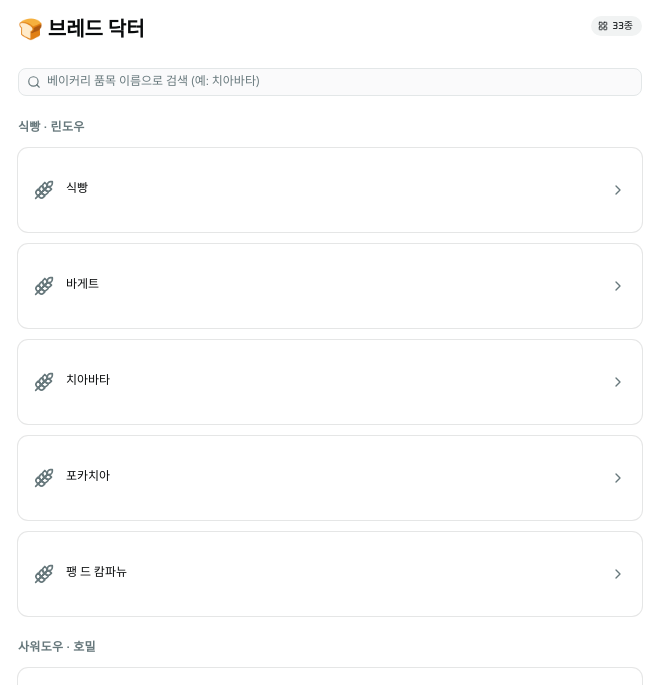
it: BreadDoctor › Scenario 3: 근접 원인(안부풂+속떡짐)은 판별 질문을 먼저 보여준다
The width and height of the screenshot is (661, 685).
What coordinates should you click on to do the following:
click the button "식빵"
I would click on:
 (44, 190)
Its box is [18, 164, 642, 216].
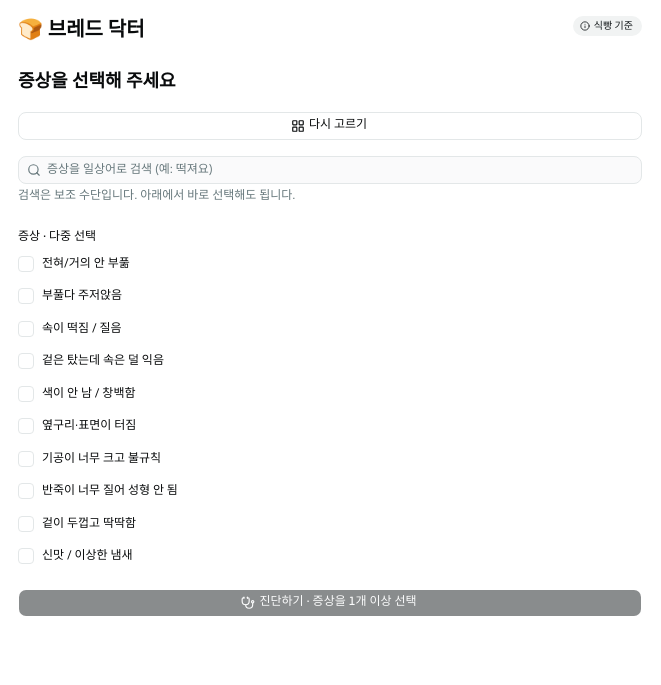
What coordinates should you click on to do the following:
click the checkbox named "전혀/거의 안 부풂" next to "전혀/거의 안 부풂"
I would click on:
 (26, 264)
Its box is [18, 256, 34, 272].
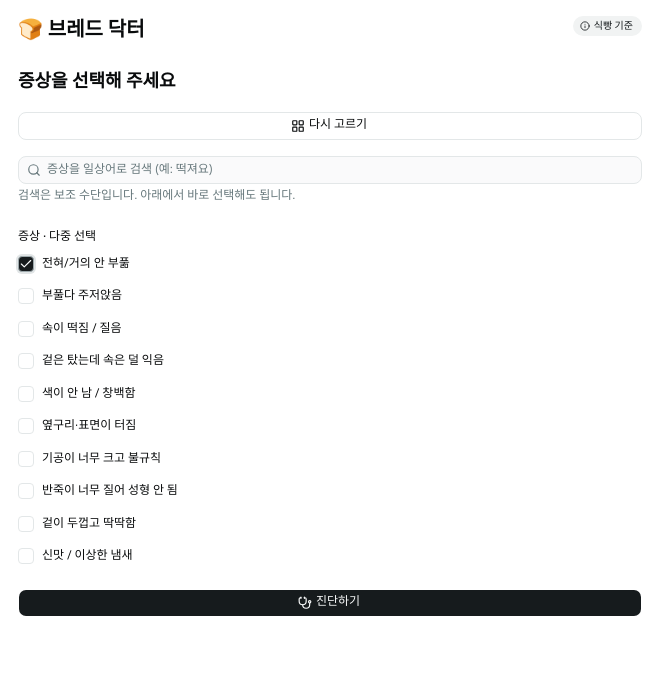
What coordinates should you click on to do the following:
click the checkbox named "속이 떡짐 / 질음" next to "속이 떡짐 / 질음"
I would click on:
 (26, 329)
Its box is [18, 321, 34, 337].
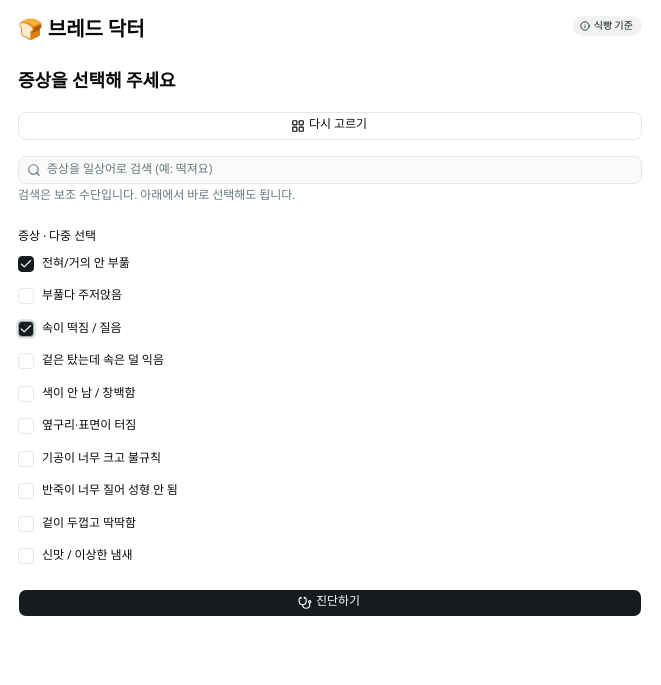
What coordinates should you click on to do the following:
click the button "진단하기"
I would click on:
 (330, 602)
Its box is [18, 588, 642, 616].
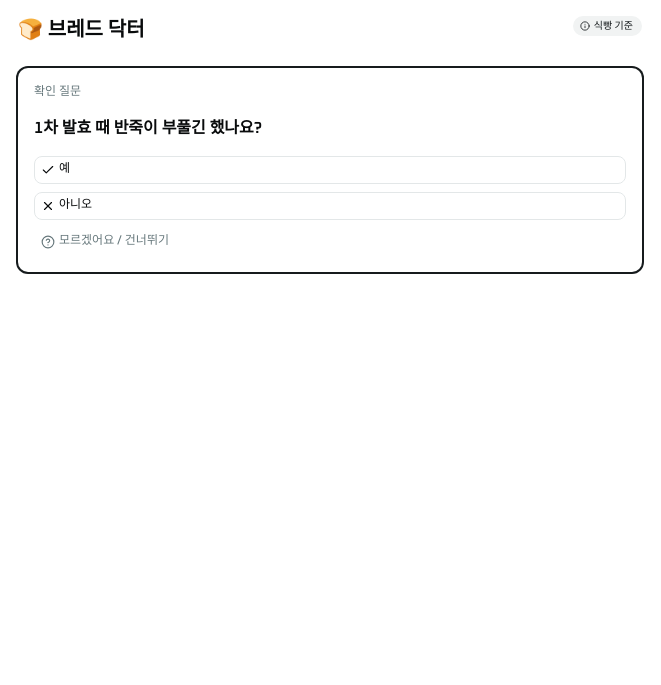
Expected: the text "확인 질문" is shown, [34, 86, 81, 98]
Expected: the text "1차 발효 때 반죽이 부풀긴 했나요?" is shown, [34, 120, 262, 136]
